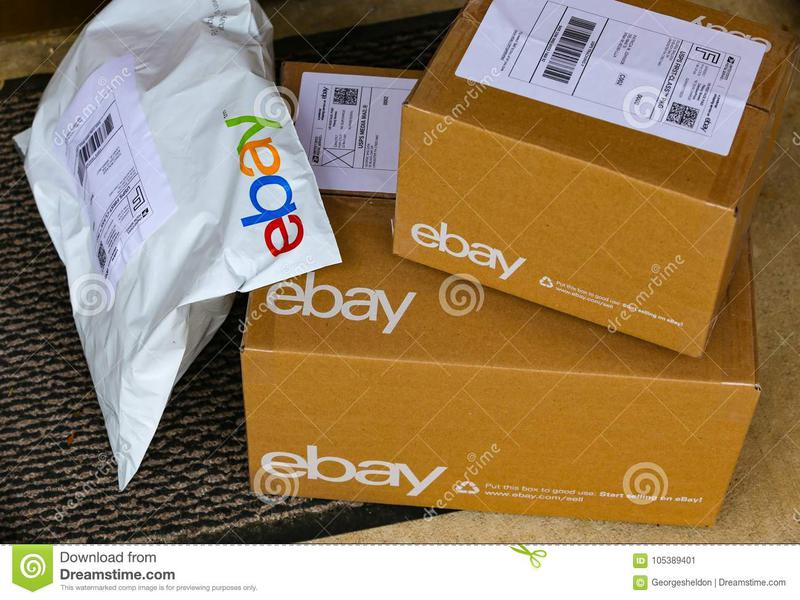package: (12, 17, 349, 502), (386, 17, 781, 363), (231, 335, 766, 529)
